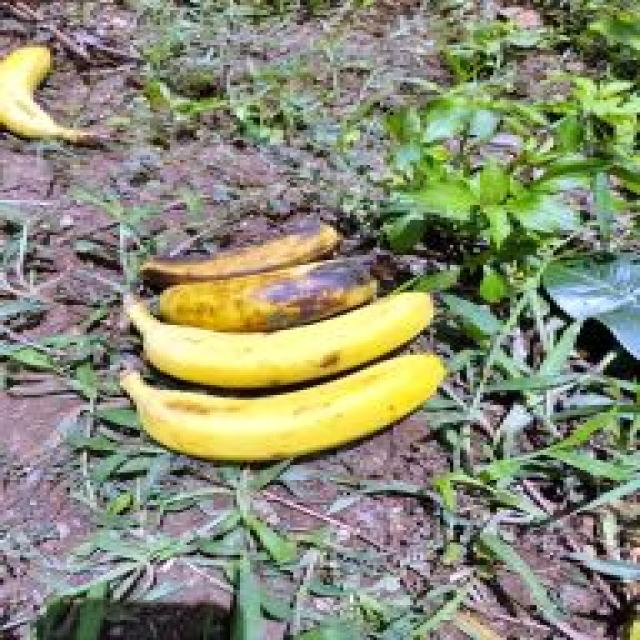Organik: (108, 349, 469, 464), (116, 294, 456, 376), (141, 254, 396, 328), (0, 37, 90, 176), (133, 226, 363, 277)
